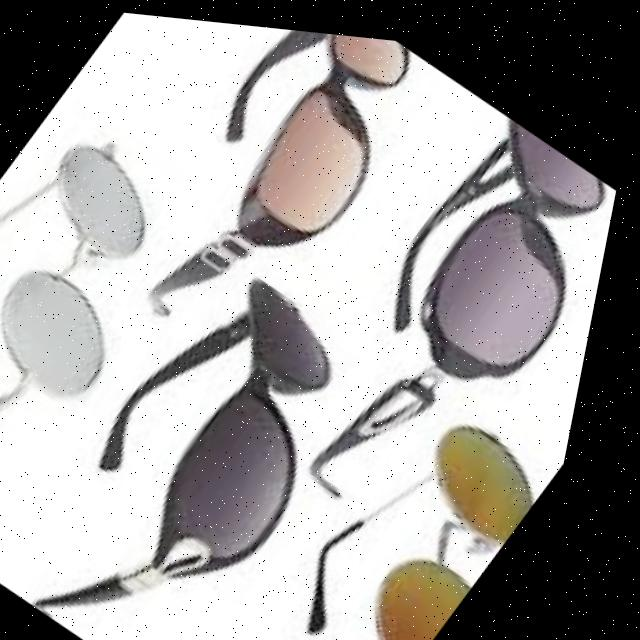gozluk: (0, 110, 244, 480)
